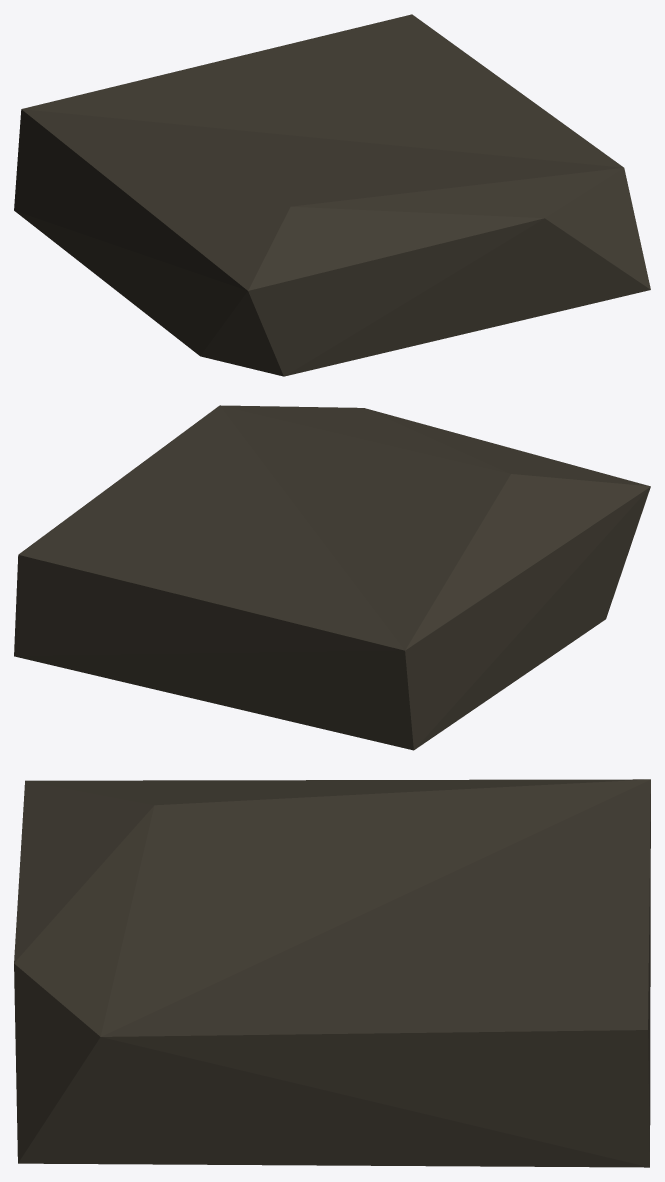
Rendered from Brick_Single_7.fbx.
3 views of the same model, one above another, from view 1: azimuth 30°, elevation 25°; view 2: azimuth 150°, elevation 25°; view 3: azimuth 270°, elevation 25° (orthographic). The views are drawn at different scales.
Parts seen in each view (by area): view 1: Group38931; view 2: Group38931; view 3: Group38931.
Boxes of the visible parts, x1,y1,x2,y2 form: Group38931: (14,14,650,376); Group38931: (14,405,650,750); Group38931: (14,779,650,1167).
Bounding box in the file's own units: 1.72 × 0.5078 × 1.77.
